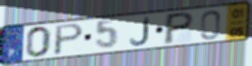0: (24, 25, 55, 59), (199, 9, 223, 42)
5: (95, 18, 121, 52)
J: (128, 16, 151, 47)
P: (161, 11, 196, 47), (52, 22, 86, 57)
